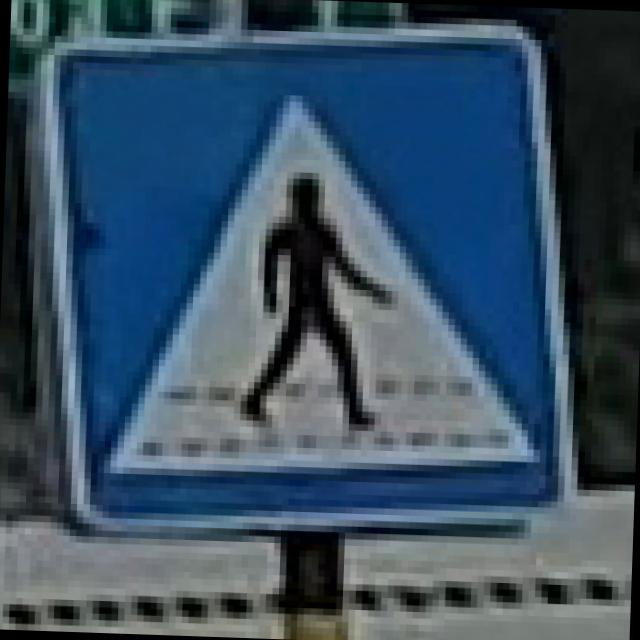zebracrossing_sign: (12, 2, 593, 546)
